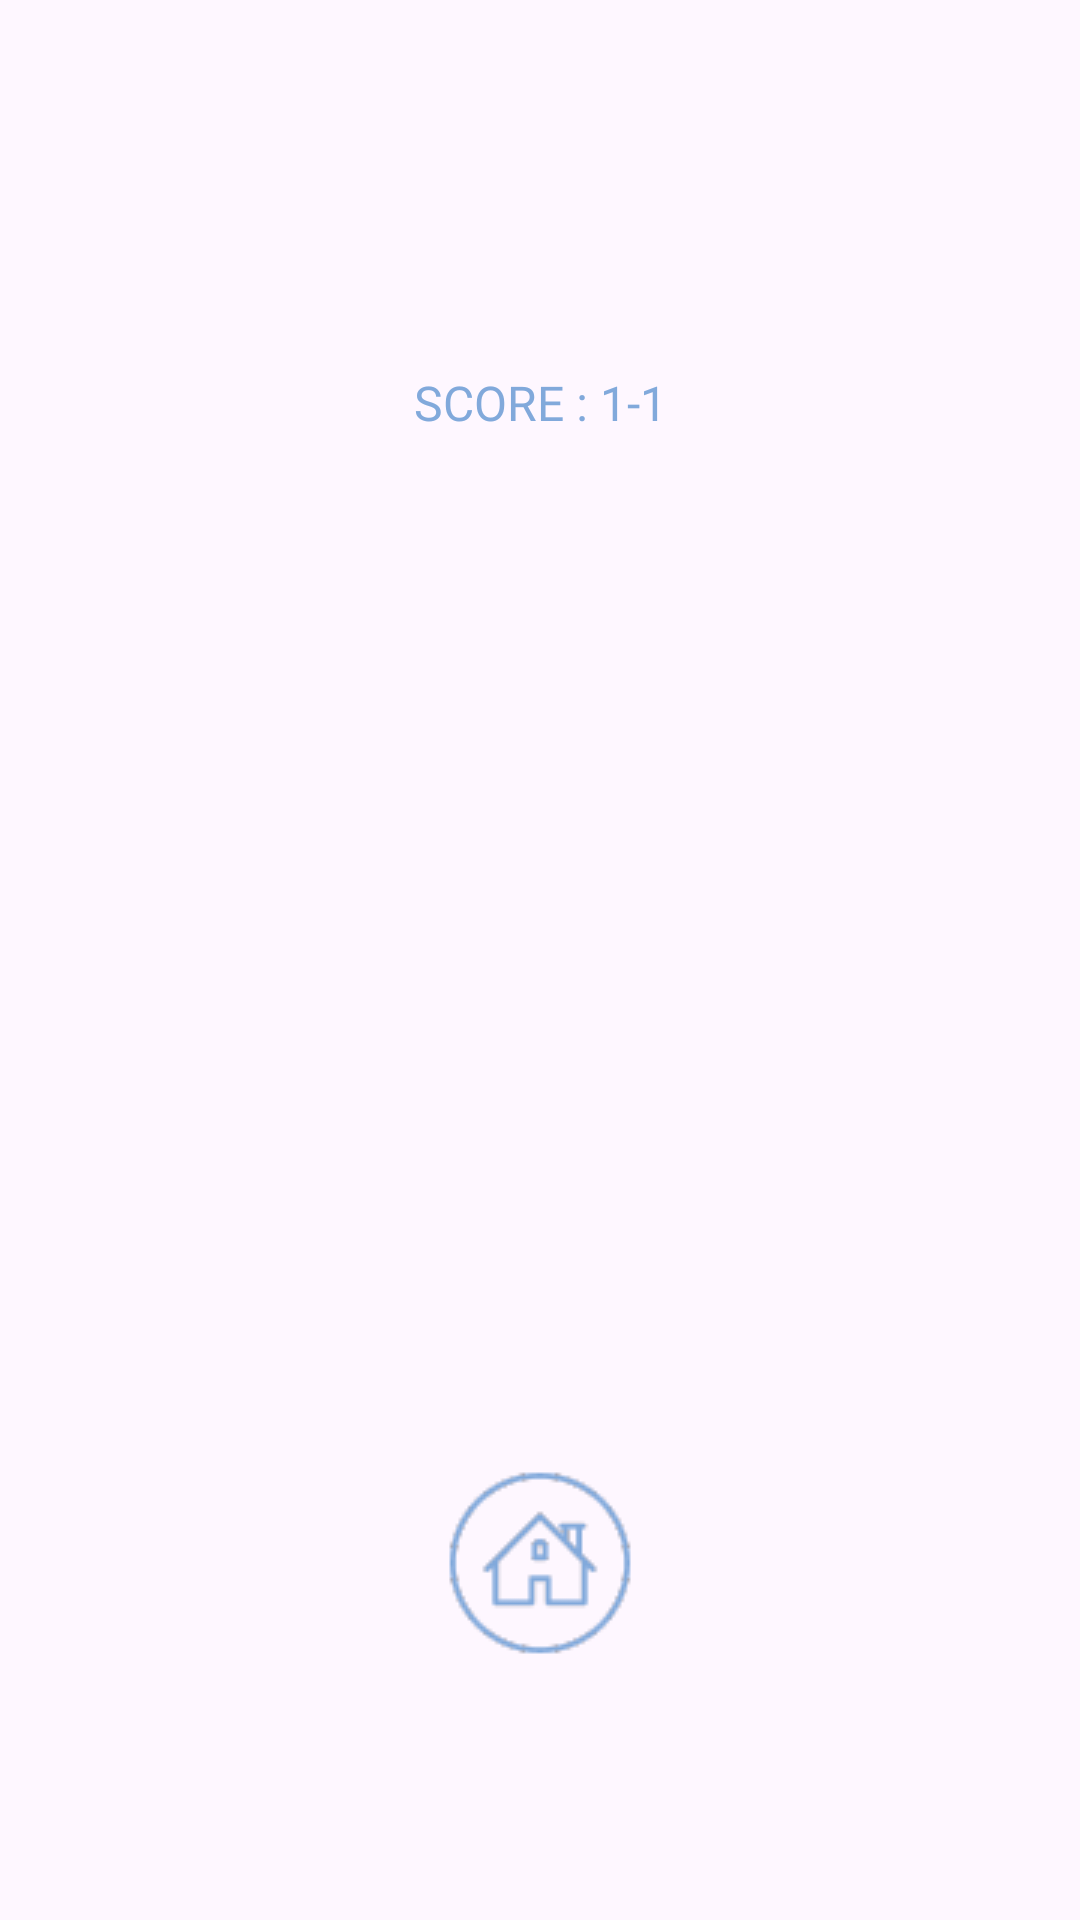

Icons on this 1080×1920 Android screen, each with the point to tap as [x,y]:
home: [540,1563]
